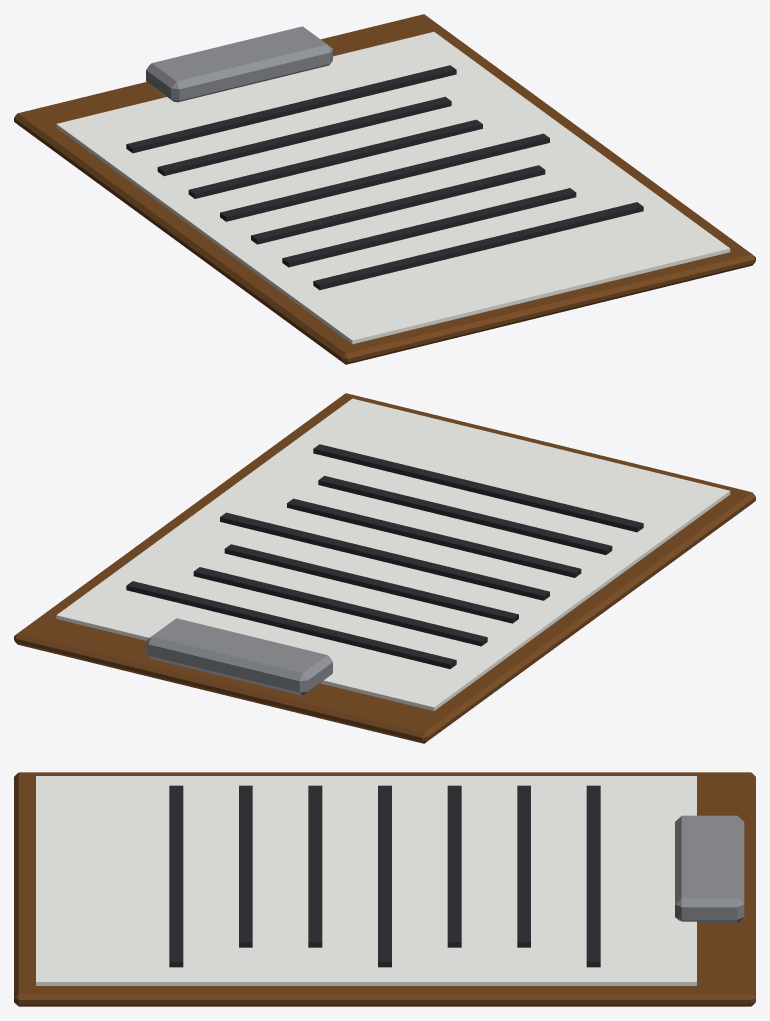
Rendered from SM_Flot_Portapapeles.fbx.
The picture shows the model from 3 angles, top to bottom: view 1: azimuth 30°, elevation 25°; view 2: azimuth 150°, elevation 25°; view 3: azimuth 270°, elevation 25°; orthographic projection. The views are drawn at different scales.
Visible parts, largest first — view 1: SM_Flot_Portapapeles; view 2: SM_Flot_Portapapeles; view 3: SM_Flot_Portapapeles.
Boxes of the visible parts, x1,y1,x2,y2 form: SM_Flot_Portapapeles: (14, 14, 755, 364); SM_Flot_Portapapeles: (14, 393, 755, 743); SM_Flot_Portapapeles: (14, 772, 755, 1006).
Bounding box in the file's own units: 0.23 × 0.0185 × 0.32.
